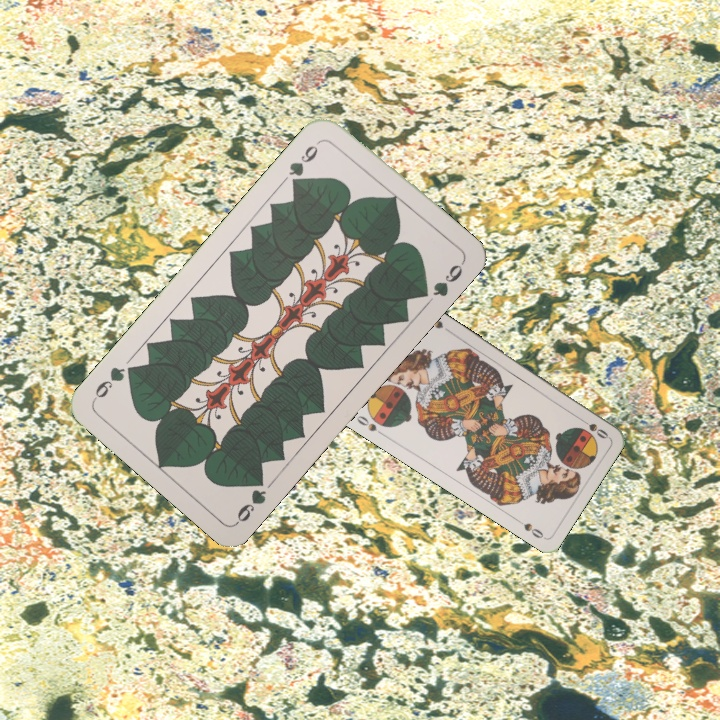G9: (284, 136, 325, 189), (232, 471, 269, 526)
SO: (575, 413, 611, 442), (352, 411, 388, 439)
